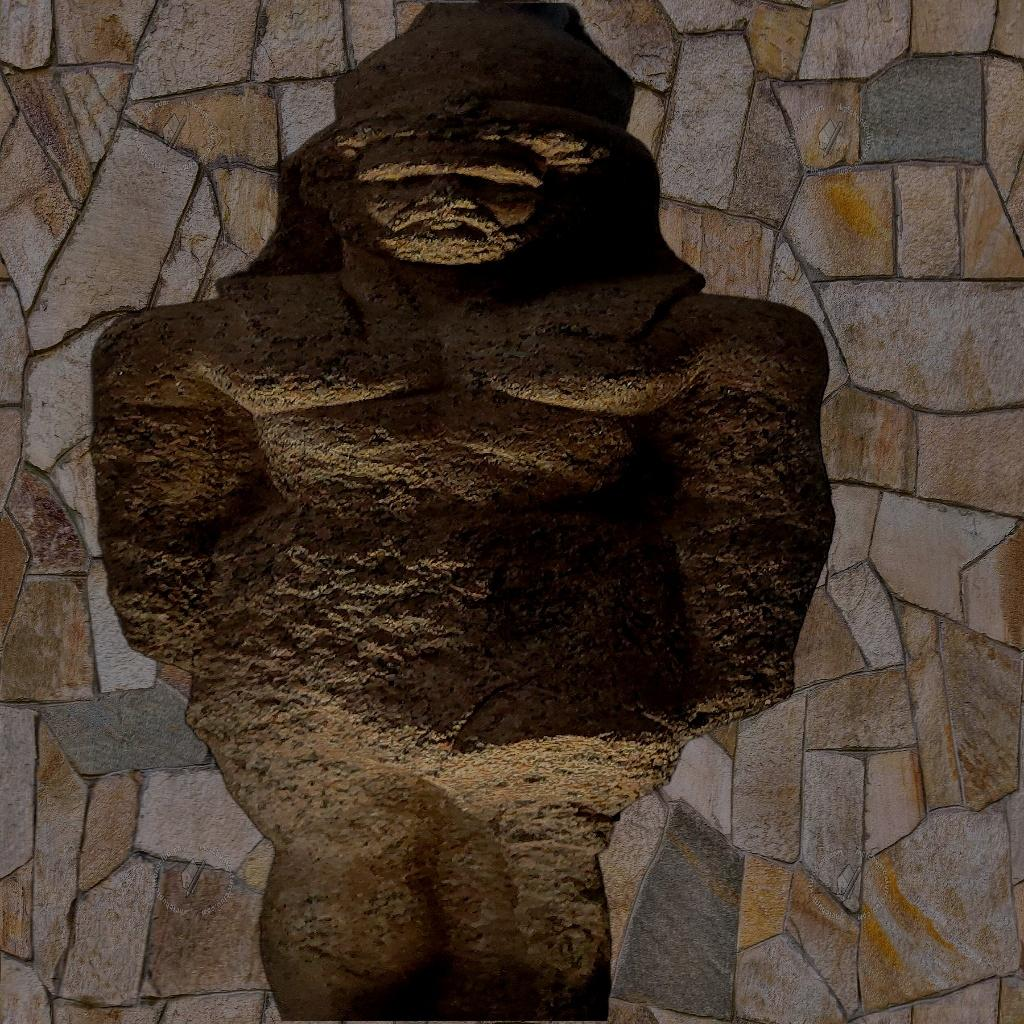Statue of Carcala: (84, 2, 842, 1020)
